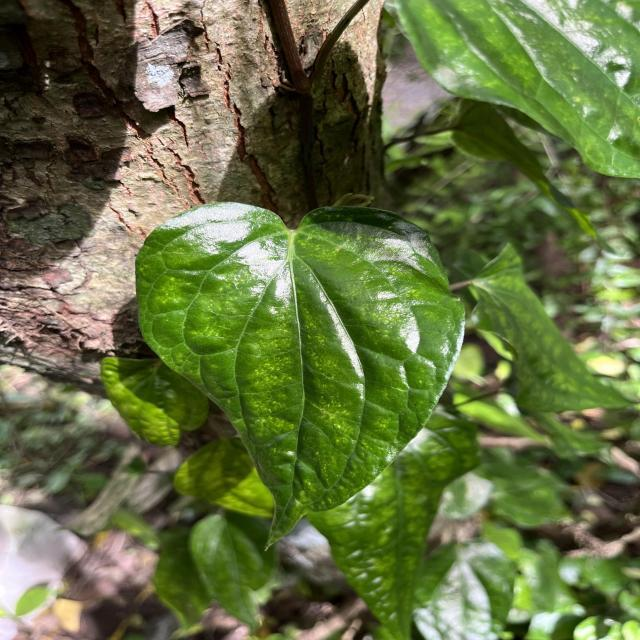Piper betle: (133, 200, 468, 556)
